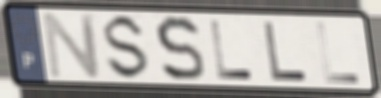L: (207, 18, 257, 82), (314, 21, 362, 86), (261, 20, 310, 83)
N: (40, 11, 104, 80)
S: (152, 13, 208, 84), (102, 12, 153, 83)
